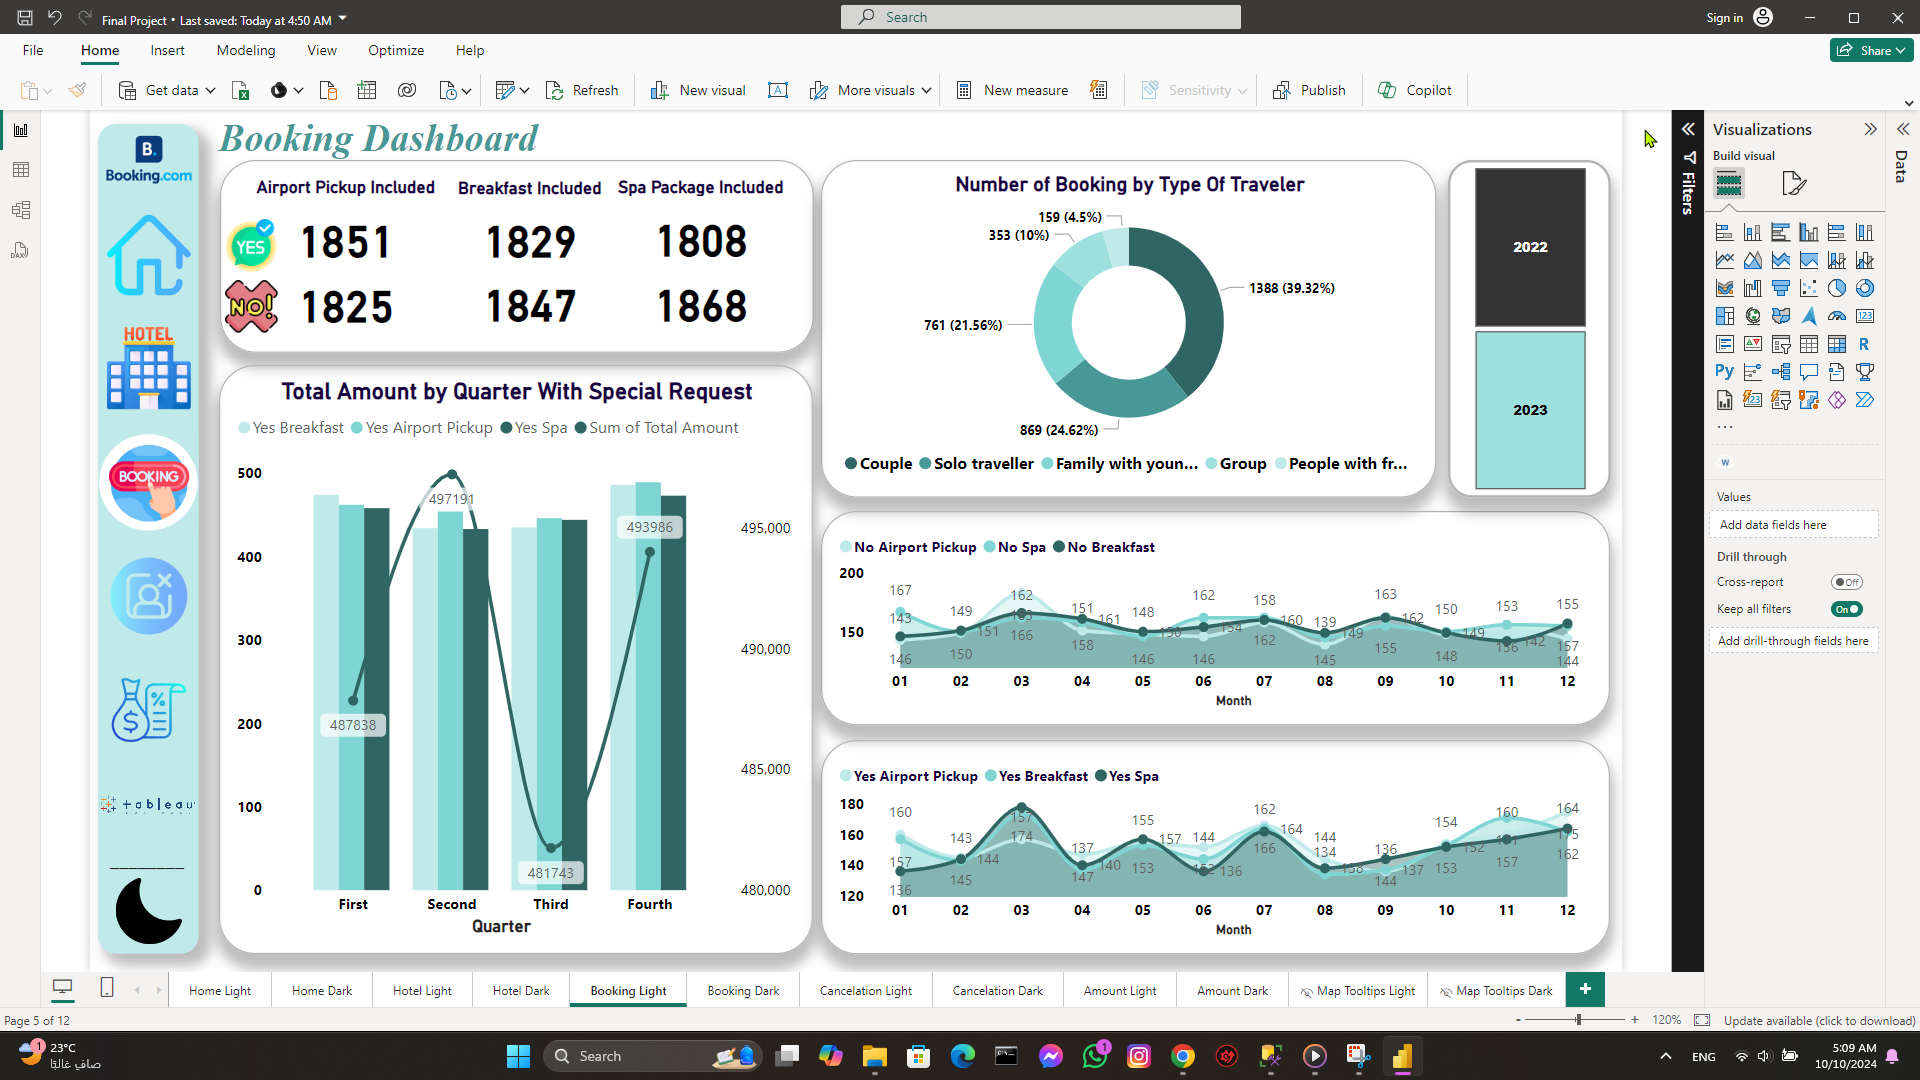

This screenshot's page, from the dashboard's own definition file:
{"tool":"tableau","page":{"name":"Booking Dashboard ","canvas":[1450,830],"ordinal":0},"visuals":[{"type":"image","param":"Image/boas.jpg","box":[8,8,1434,814]},{"type":"text","box":[508,26.4,370,34.2]},{"type":"image","param":"Image/choose.png","box":[91,28.3,47,39.1]},{"type":"text","box":[65,75.2,100,29.3]},{"type":"worksheet","title":"Num Of Completed and Cancelled Booking","mark":"Pie","box":[218,89,374,191]},{"type":"worksheet","title":" Booking with Breakfast Included","mark":"Automatic","rows":["Calculation_673288203220189195","Calculation_673288203220189195"],"box":[597,92,372,186]},{"type":"worksheet","title":"Bookings By Room Type ","mark":"Automatic","rows":["Booking_id_SK","Booking_id_SK"],"cols":["Room Type"],"box":[992,93,427,384]},{"type":"dashboard-object","box":[26,133.8,174,52.7]},{"type":"dashboard-object","box":[27,210.9,174,46.9]},{"type":"dashboard-object","box":[26,284.2,174,46.9]},{"type":"worksheet","title":" Booking with Spa Included","mark":"Automatic","rows":["Calculation_673288203220189195","Calculation_673288203220189195"],"box":[222,291,369,194]},{"type":"worksheet","title":" Booking with Airport Pickup Included","mark":"Automatic","rows":["Calculation_673288203220189195","Calculation_673288203220189195"],"box":[599,292,372,191]},{"type":"dashboard-object","box":[26,357.4,174,46.9]},{"type":"dashboard-object","box":[26,437.5,174,46.9]},{"type":"worksheet","title":"Num Of Bookings By Countries","mark":"Automatic","rows":["Booking_id_SK"],"cols":["Country"],"box":[219,496,1203,310]},{"type":"blank","box":[53,504,123,2]},{"type":"text","box":[80,519,73,34]},{"type":"dashboard-object","box":[71,565,76,39]},{"type":"dashboard-object","box":[122,565,91,39]},{"type":"blank","box":[51,631,123,2]},{"type":"text","box":[47,644,144,25]},{"type":"image","param":"Image/Microsoft-Power-BI-Symbol.png","box":[75,676,77,61]}]}

Visuals, with their boxes on the page's 1450x830 design canvas (x1, y1, x2, y2). These are canvas units, not pixel positions in the 1920x1080 screenshot, which may show the page scaled, cropped or inside an application window:
image: [x1=8, y1=8, x2=1442, y2=822]
text: [x1=508, y1=26, x2=878, y2=61]
image: [x1=91, y1=28, x2=138, y2=67]
text: [x1=65, y1=75, x2=165, y2=104]
"Num Of Completed and Cancelled Booking" worksheet (Pie marks): [x1=218, y1=89, x2=592, y2=280]
" Booking with Breakfast Included" worksheet: [x1=597, y1=92, x2=969, y2=278]
"Bookings By Room Type " worksheet: [x1=992, y1=93, x2=1419, y2=477]
dashboard-object: [x1=26, y1=134, x2=200, y2=186]
dashboard-object: [x1=27, y1=211, x2=201, y2=258]
dashboard-object: [x1=26, y1=284, x2=200, y2=331]
" Booking with Spa Included" worksheet: [x1=222, y1=291, x2=591, y2=485]
" Booking with Airport Pickup Included" worksheet: [x1=599, y1=292, x2=971, y2=483]
dashboard-object: [x1=26, y1=357, x2=200, y2=404]
dashboard-object: [x1=26, y1=438, x2=200, y2=484]
"Num Of Bookings By Countries" worksheet: [x1=219, y1=496, x2=1422, y2=806]
blank: [x1=53, y1=504, x2=176, y2=506]
text: [x1=80, y1=519, x2=153, y2=553]
dashboard-object: [x1=71, y1=565, x2=147, y2=604]
dashboard-object: [x1=122, y1=565, x2=213, y2=604]
blank: [x1=51, y1=631, x2=174, y2=633]
text: [x1=47, y1=644, x2=191, y2=669]
image: [x1=75, y1=676, x2=152, y2=737]
